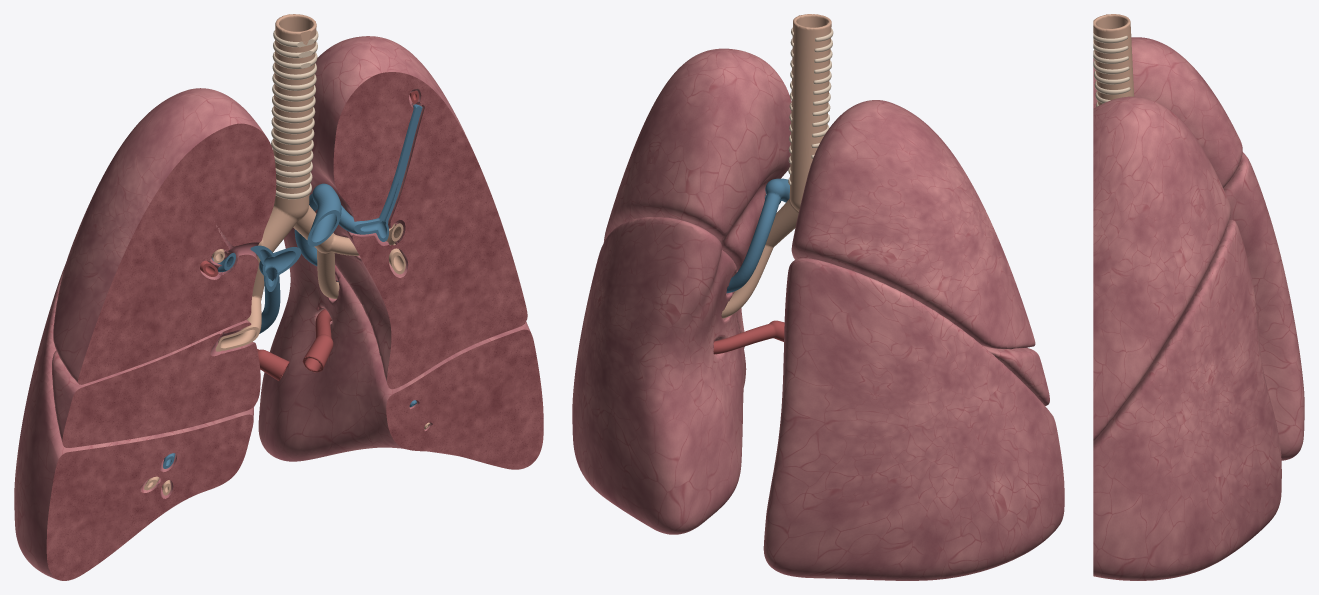
The model's file is section.glb.
The picture shows the model from 3 angles, left to right: view 1: azimuth 30°, elevation 25°; view 2: azimuth 150°, elevation 25°; view 3: azimuth 270°, elevation 25°; orthographic projection. The views are drawn at different scales.
Parts seen in each view (by area): view 1: section LUL, section RUL, section LLL, section RLL, section RML, section Airway_Tree, section Pulmonary_Arteries, section Tracheal_Cartilage, section Pulmonary_Vein_L_Inferior; view 2: section RLL, section LLL, section RUL, section LUL, section Airway_Tree, section Pulmonary_Arteries, section RML, section Tracheal_Cartilage, section Pulmonary_Vein_L_Inferior; view 3: section LLL, section LUL, section RLL, section RUL, section Airway_Tree, section Tracheal_Cartilage.
Part boxes in pixels (<box>): section LUL: <box>309,36,527,389</box>; section RUL: <box>53,88,276,384</box>; section LLL: <box>258,227,543,469</box>; section RLL: <box>14,261,254,580</box>; section RML: <box>52,319,260,447</box>; section Airway_Tree: <box>144,14,430,495</box>; section Pulmonary_Arteries: <box>163,104,422,468</box>; section Tracheal_Cartilage: <box>271,30,318,199</box>; section Pulmonary_Vein_L_Inferior: <box>302,309,333,372</box>; section RLL: <box>763,258,1064,580</box>; section LLL: <box>572,217,746,534</box>; section RUL: <box>791,100,1035,349</box>; section LUL: <box>603,48,791,348</box>; section Airway_Tree: <box>721,14,831,318</box>; section Pulmonary_Arteries: <box>726,178,789,293</box>; section RML: <box>983,346,1049,405</box>; section Tracheal_Cartilage: <box>788,27,833,185</box>; section Pulmonary_Vein_L_Inferior: <box>713,320,784,354</box>; section LLL: <box>1093,220,1281,580</box>; section LUL: <box>1093,96,1230,440</box>; section RLL: <box>1223,152,1304,460</box>; section RUL: <box>1093,37,1242,187</box>; section Airway_Tree: <box>1093,14,1134,105</box>; section Tracheal_Cartilage: <box>1093,33,1130,106</box>.
Bounding box in the file's own units: 0.2627 × 0.2551 × 0.1041.
Materials: 6 (2 with a texture image).
